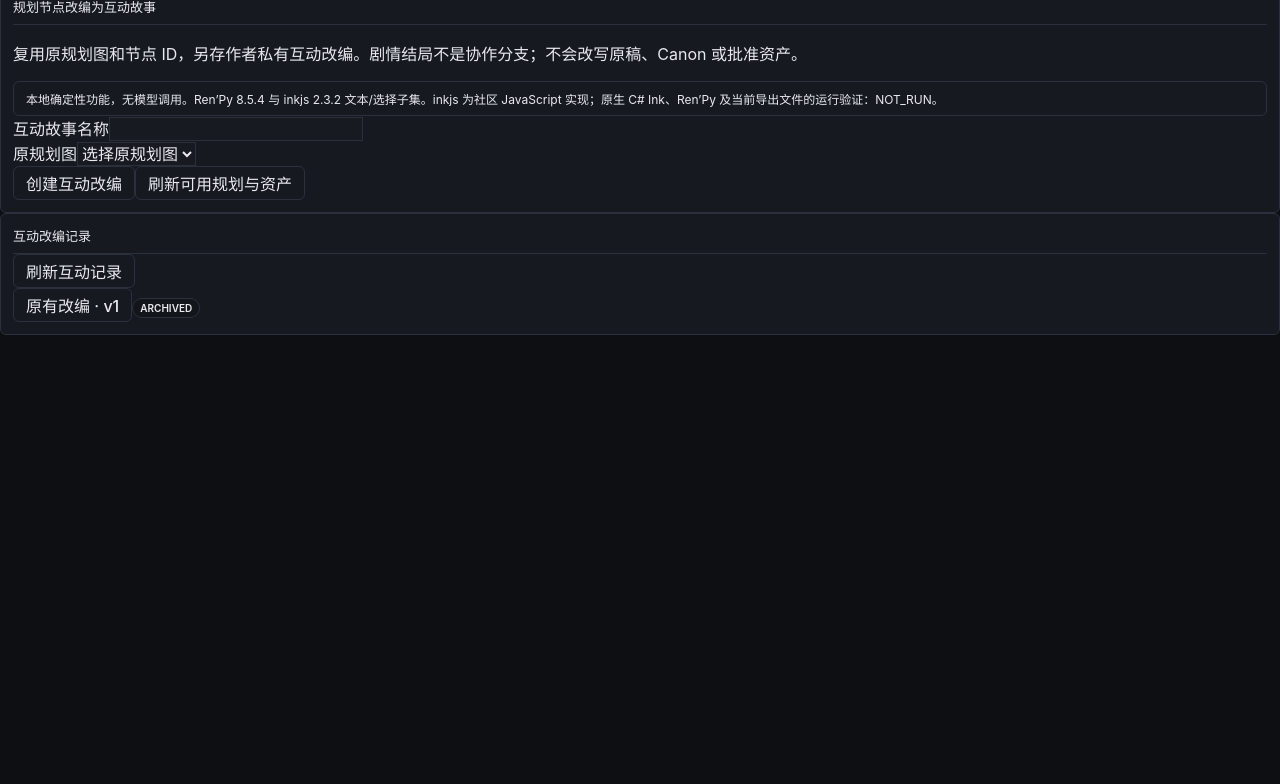
Test: fails closed for archive without editing or repinning
Click the button "原有改编 · v1": [73, 305] box [13,288,132,322]
(page scrolled)
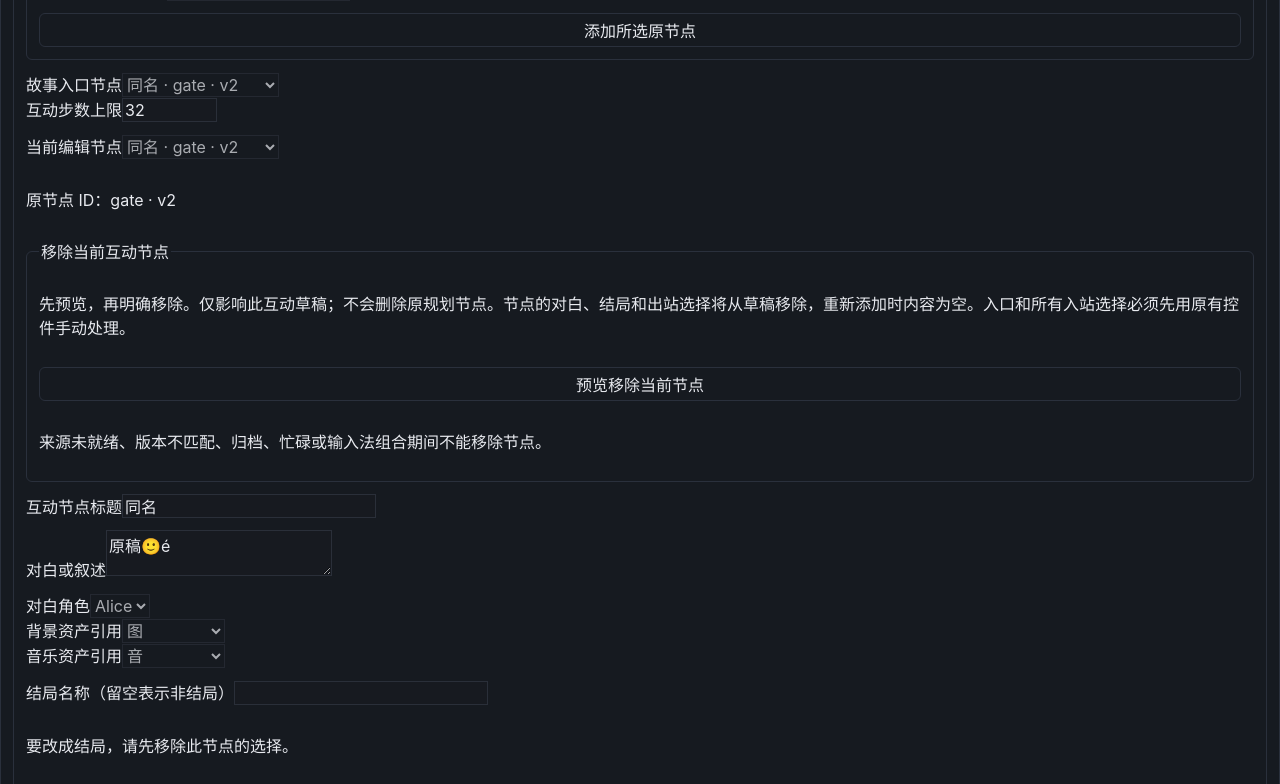
Check: the button "预览移除当前节点" is disabled, box [39,367,1241,401]
